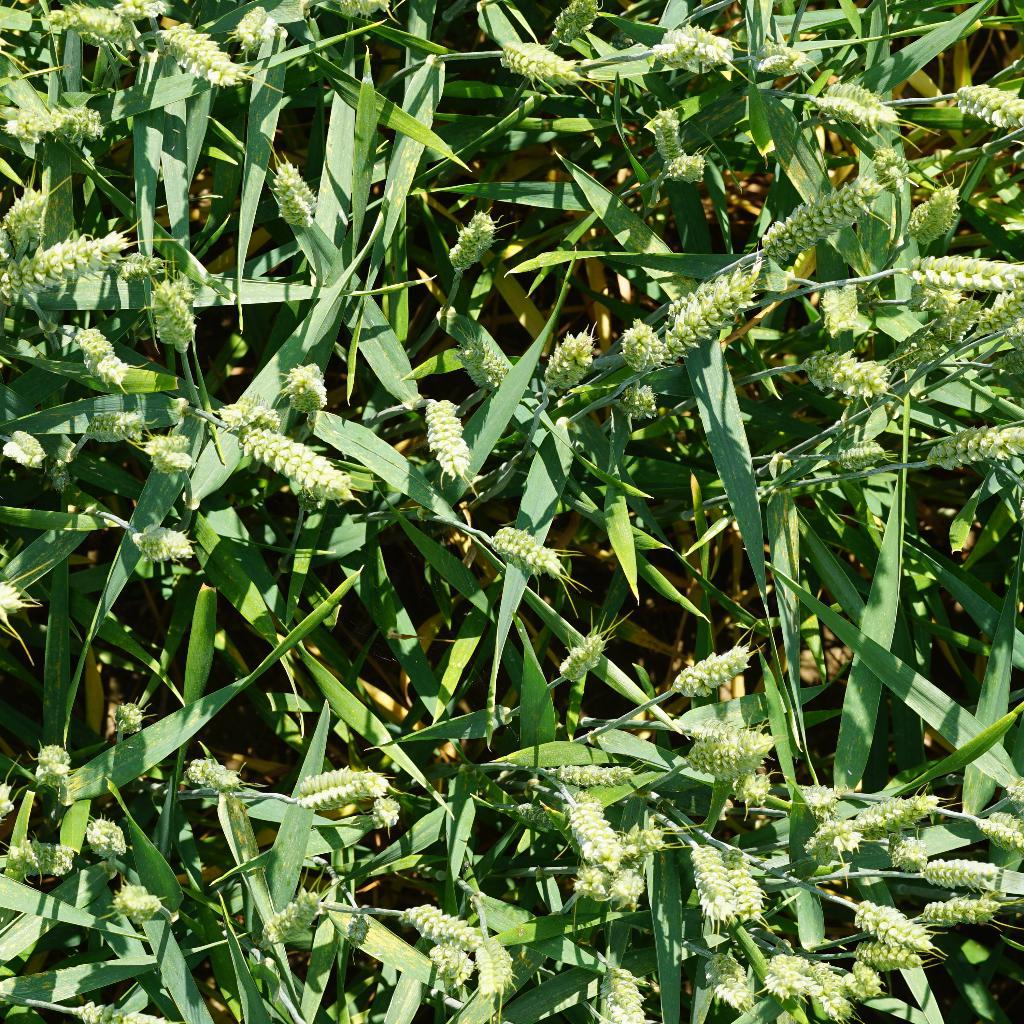0-0: (728, 161, 884, 258), (228, 410, 367, 504), (0, 228, 135, 311), (649, 262, 758, 363), (565, 815, 660, 916), (164, 18, 273, 100), (904, 235, 1023, 305), (806, 62, 914, 137), (273, 758, 396, 818), (406, 387, 486, 479), (529, 325, 615, 410), (769, 340, 894, 396), (690, 717, 788, 784), (938, 71, 1023, 146), (645, 11, 746, 74), (660, 645, 766, 703), (849, 892, 941, 955), (0, 176, 51, 287), (485, 519, 568, 587), (126, 516, 223, 572), (677, 836, 739, 923), (553, 789, 623, 866), (806, 279, 884, 348), (586, 952, 660, 1024), (541, 748, 654, 795), (904, 421, 1024, 465), (912, 884, 1004, 940), (264, 151, 325, 235), (485, 36, 578, 89), (149, 272, 212, 350), (178, 746, 254, 810), (717, 841, 773, 926), (819, 789, 935, 830), (442, 204, 506, 278), (27, 94, 111, 150), (257, 881, 326, 949), (909, 843, 1004, 892), (62, 328, 127, 399), (400, 892, 484, 944), (43, 0, 139, 45), (78, 807, 145, 870), (789, 953, 848, 1024), (819, 422, 885, 485), (912, 179, 968, 251), (852, 933, 945, 976), (710, 944, 763, 1019), (279, 350, 340, 415), (0, 825, 75, 877), (451, 332, 518, 389), (78, 990, 190, 1024), (463, 931, 518, 998), (232, 0, 295, 58), (799, 810, 867, 863), (735, 29, 810, 77), (605, 317, 664, 377), (952, 299, 1024, 347), (83, 407, 161, 448), (32, 743, 85, 803), (116, 877, 174, 931), (555, 636, 616, 687), (545, 0, 608, 47), (660, 134, 712, 190), (141, 423, 197, 475), (780, 781, 845, 824), (769, 944, 818, 1001), (415, 940, 471, 989), (677, 712, 757, 744), (967, 799, 1024, 842), (0, 418, 45, 470), (642, 105, 688, 153), (838, 955, 886, 1001), (499, 800, 565, 833), (105, 0, 172, 32), (869, 144, 912, 193), (357, 798, 415, 833), (109, 698, 154, 742), (730, 767, 775, 811), (613, 382, 662, 421), (341, 902, 376, 955), (888, 829, 926, 876), (336, 0, 407, 22), (0, 75, 17, 135)
